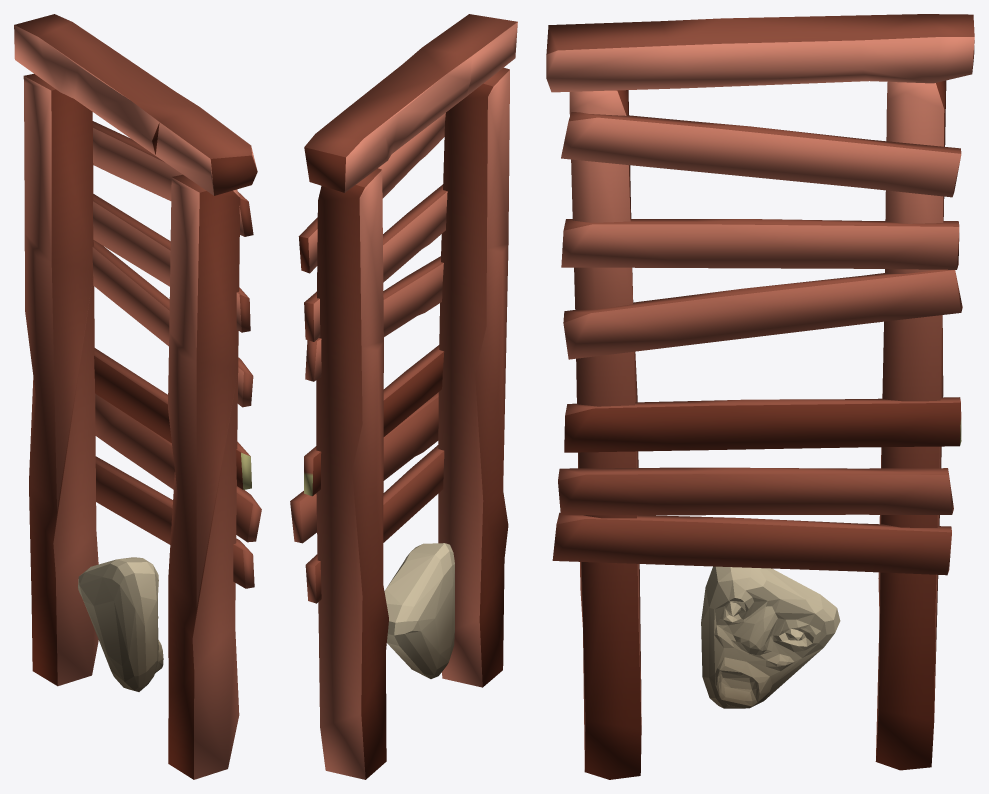
Rendered from Tapia6.Prop.6.fbx.
3 views of the same model, side by side, from view 1: azimuth 30°, elevation 25°; view 2: azimuth 150°, elevation 25°; view 3: azimuth 270°, elevation 25° (orthographic). The views are drawn at different scales.
Visible parts, largest first — view 1: Tapia; view 2: Tapia; view 3: Tapia.
Boxes of the visible parts, box(x1,y1,x2,y2) form: Tapia: box(14, 14, 261, 779); Tapia: box(290, 14, 517, 779); Tapia: box(546, 14, 974, 779).
Size of the model in its own units: 45.05 by 372 by 195.
